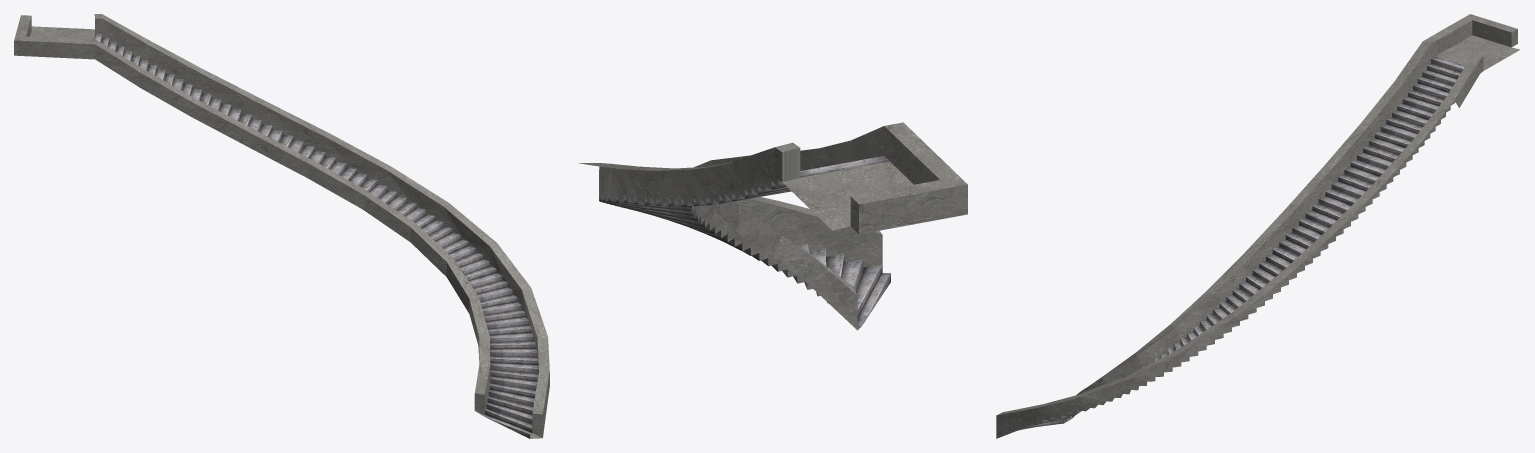
File: cunte_curvesteps1.obj
The picture shows the model from 3 angles, left to right: view 1: azimuth 30°, elevation 25°; view 2: azimuth 150°, elevation 25°; view 3: azimuth 270°, elevation 25°; orthographic projection. The views are drawn at different scales.
Visible parts, largest first — view 1: cunte_curvesteps1; view 2: cunte_curvesteps1; view 3: cunte_curvesteps1.
Part boxes in pixels (x1,y1,x2,y2): cunte_curvesteps1: [14, 14, 549, 438]; cunte_curvesteps1: [578, 122, 967, 330]; cunte_curvesteps1: [996, 14, 1520, 438].
Bounding box in the file's own units: 18.53 × 15.03 × 24.91.
